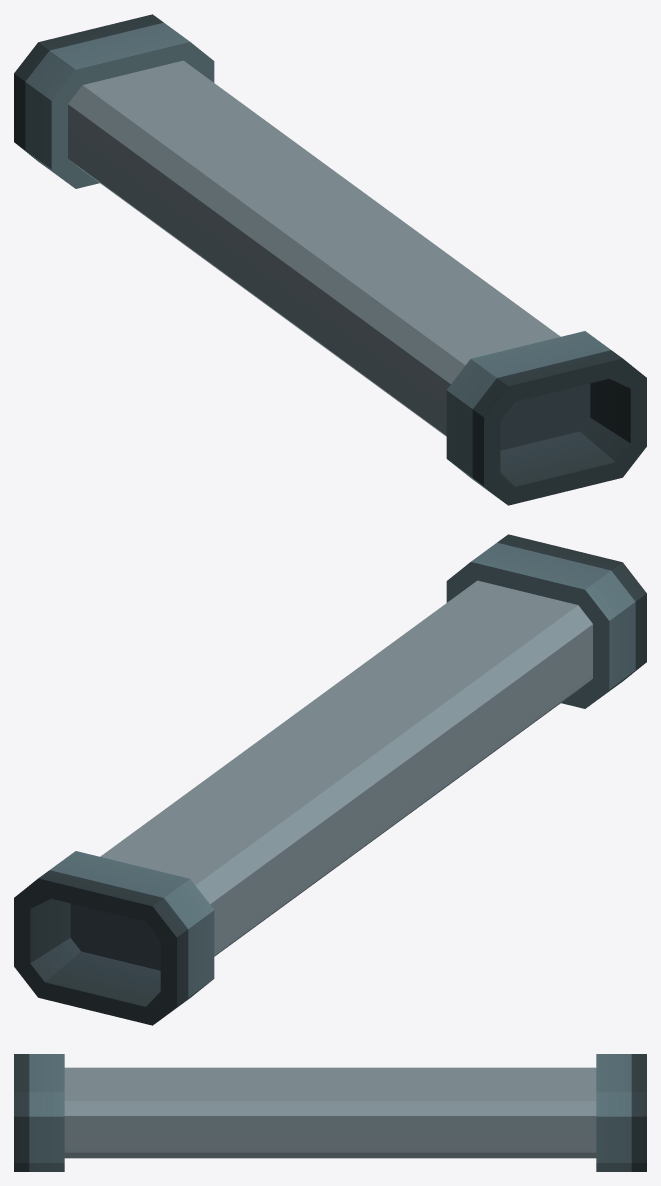
File: Vent_tube_002.fbx
3 renders of one model, top to bottom at view 1: azimuth 30°, elevation 25°; view 2: azimuth 150°, elevation 25°; view 3: azimuth 270°, elevation 25°, orthographic. The views are drawn at different scales.
Parts seen in each view (by area): view 1: Vent_tube_002; view 2: Vent_tube_002; view 3: Vent_tube_002.
Boxes of the visible parts, <box> form: Vent_tube_002: <box>14,14,646,505</box>; Vent_tube_002: <box>14,534,646,1025</box>; Vent_tube_002: <box>14,1054,646,1171</box>.
Bounding box in the file's own units: 50 × 250 × 35.
